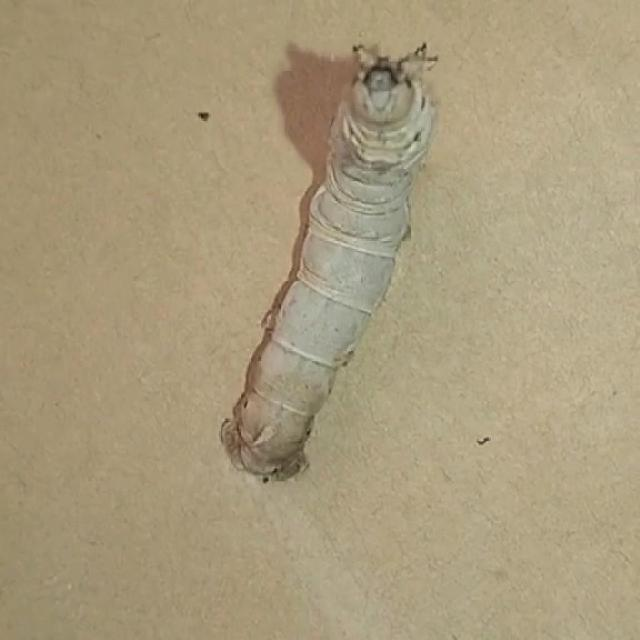Grasserie: (196, 9, 532, 519)
